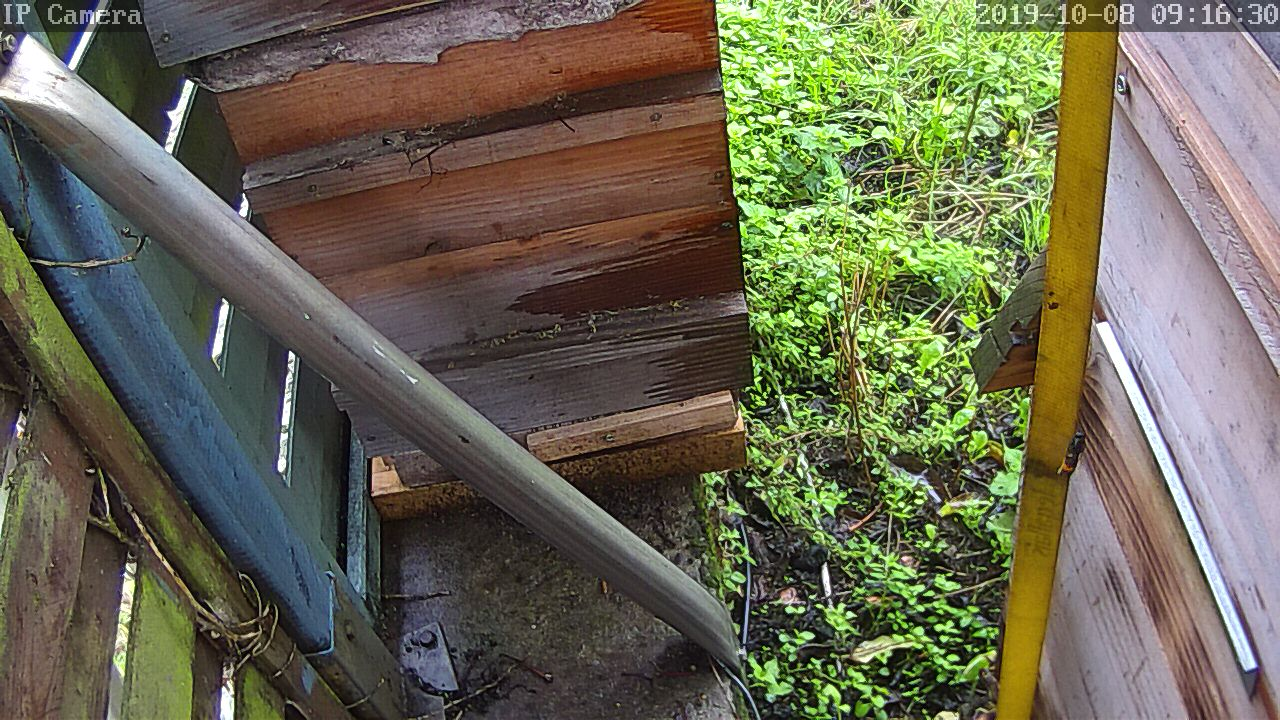hornet: (1051, 430, 1091, 483)
